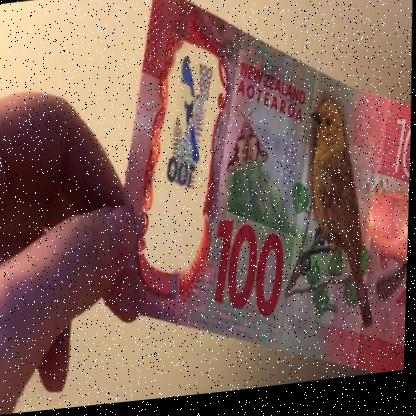100B: (162, 56, 217, 225)
